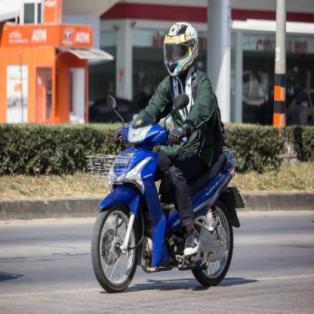Motocicleta: (88, 94, 241, 293)
